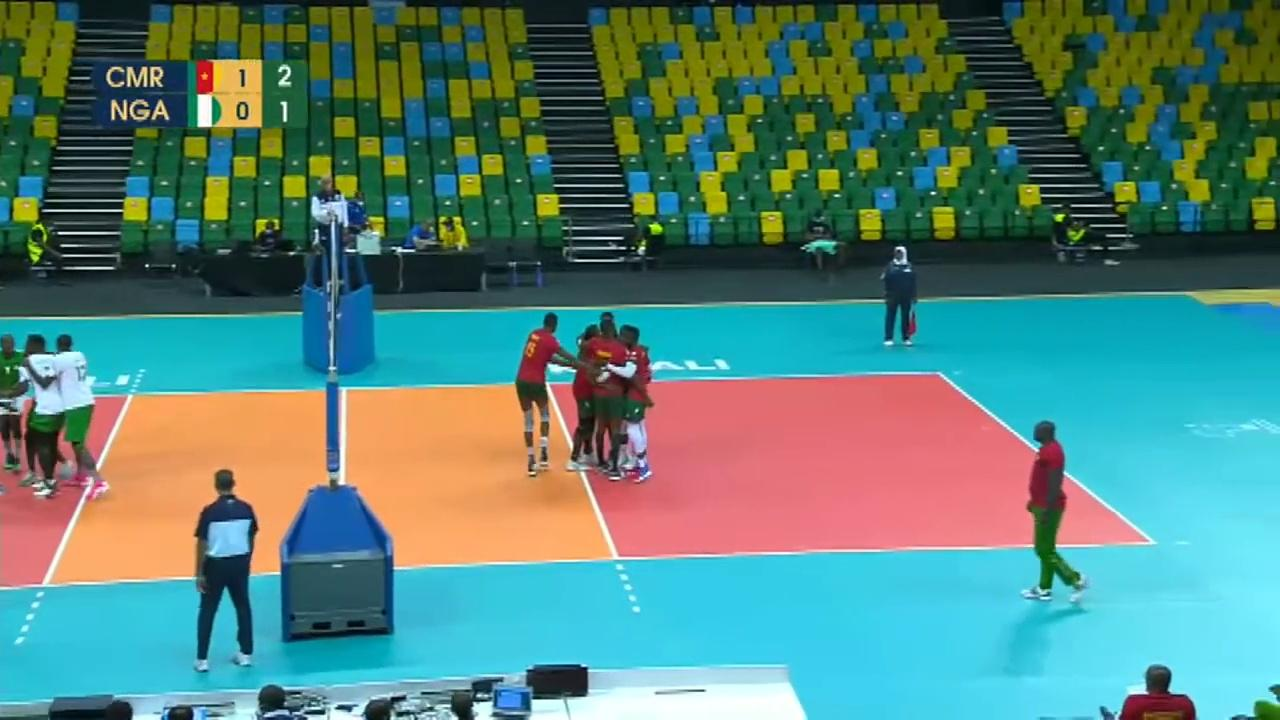player: (53, 334, 112, 503), (511, 316, 572, 474), (24, 334, 65, 496), (621, 324, 657, 489), (596, 321, 624, 491), (0, 329, 31, 477), (570, 341, 599, 476)
refree: (194, 472, 266, 662), (312, 175, 354, 281), (879, 244, 918, 346)
